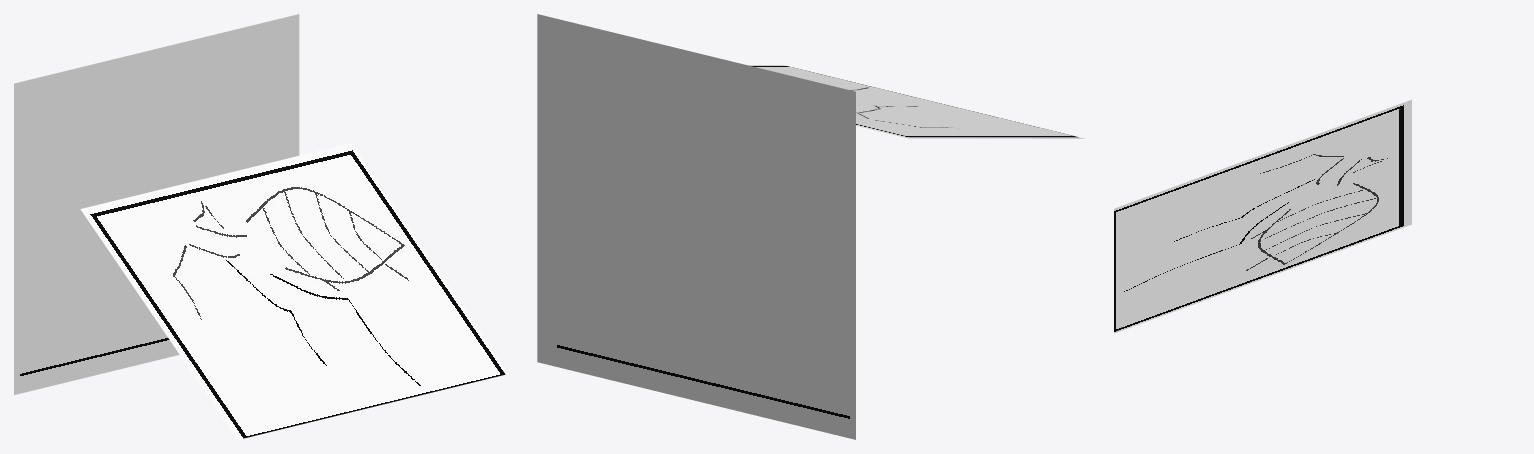
Rendered from Spider theory.glb.
The picture shows the model from 3 angles, left to right: view 1: azimuth 30°, elevation 25°; view 2: azimuth 150°, elevation 25°; view 3: azimuth 270°, elevation 25°; orthographic projection. The views are drawn at different scales.
Visible parts, largest first — view 1: mesh_id29, mesh_id1; view 2: mesh_id1, mesh_id29; view 3: mesh_id29.
Boxes of the visible parts, box(x1,y1,x2,y2) form: mesh_id29: box(80, 143, 508, 439); mesh_id1: box(14, 14, 299, 394); mesh_id1: box(537, 14, 855, 439); mesh_id29: box(747, 65, 1085, 138); mesh_id29: box(1114, 99, 1411, 333).
Size of the model in its own units: 0.36 by 0.376 by 0.4695.
2 materials, 2 textured.
